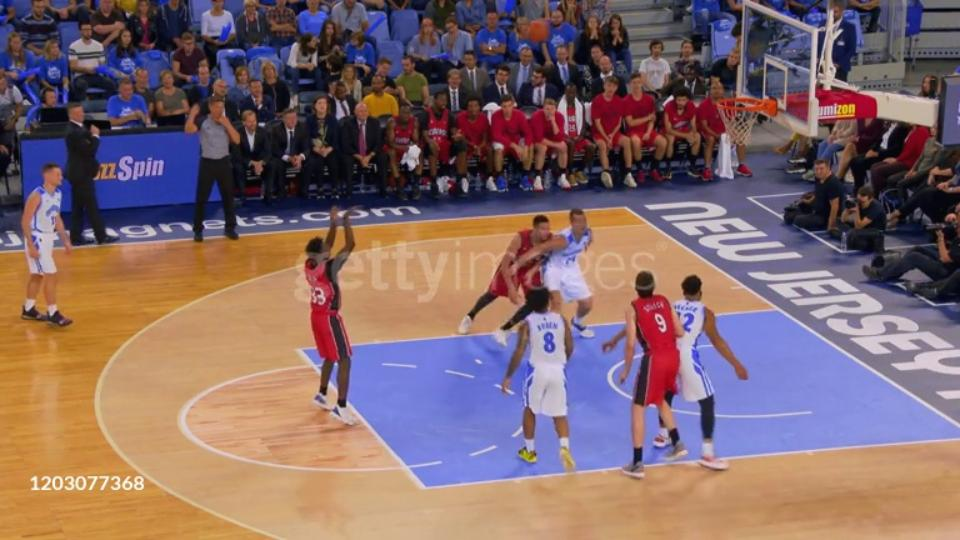hoop: (714, 96, 781, 124)
